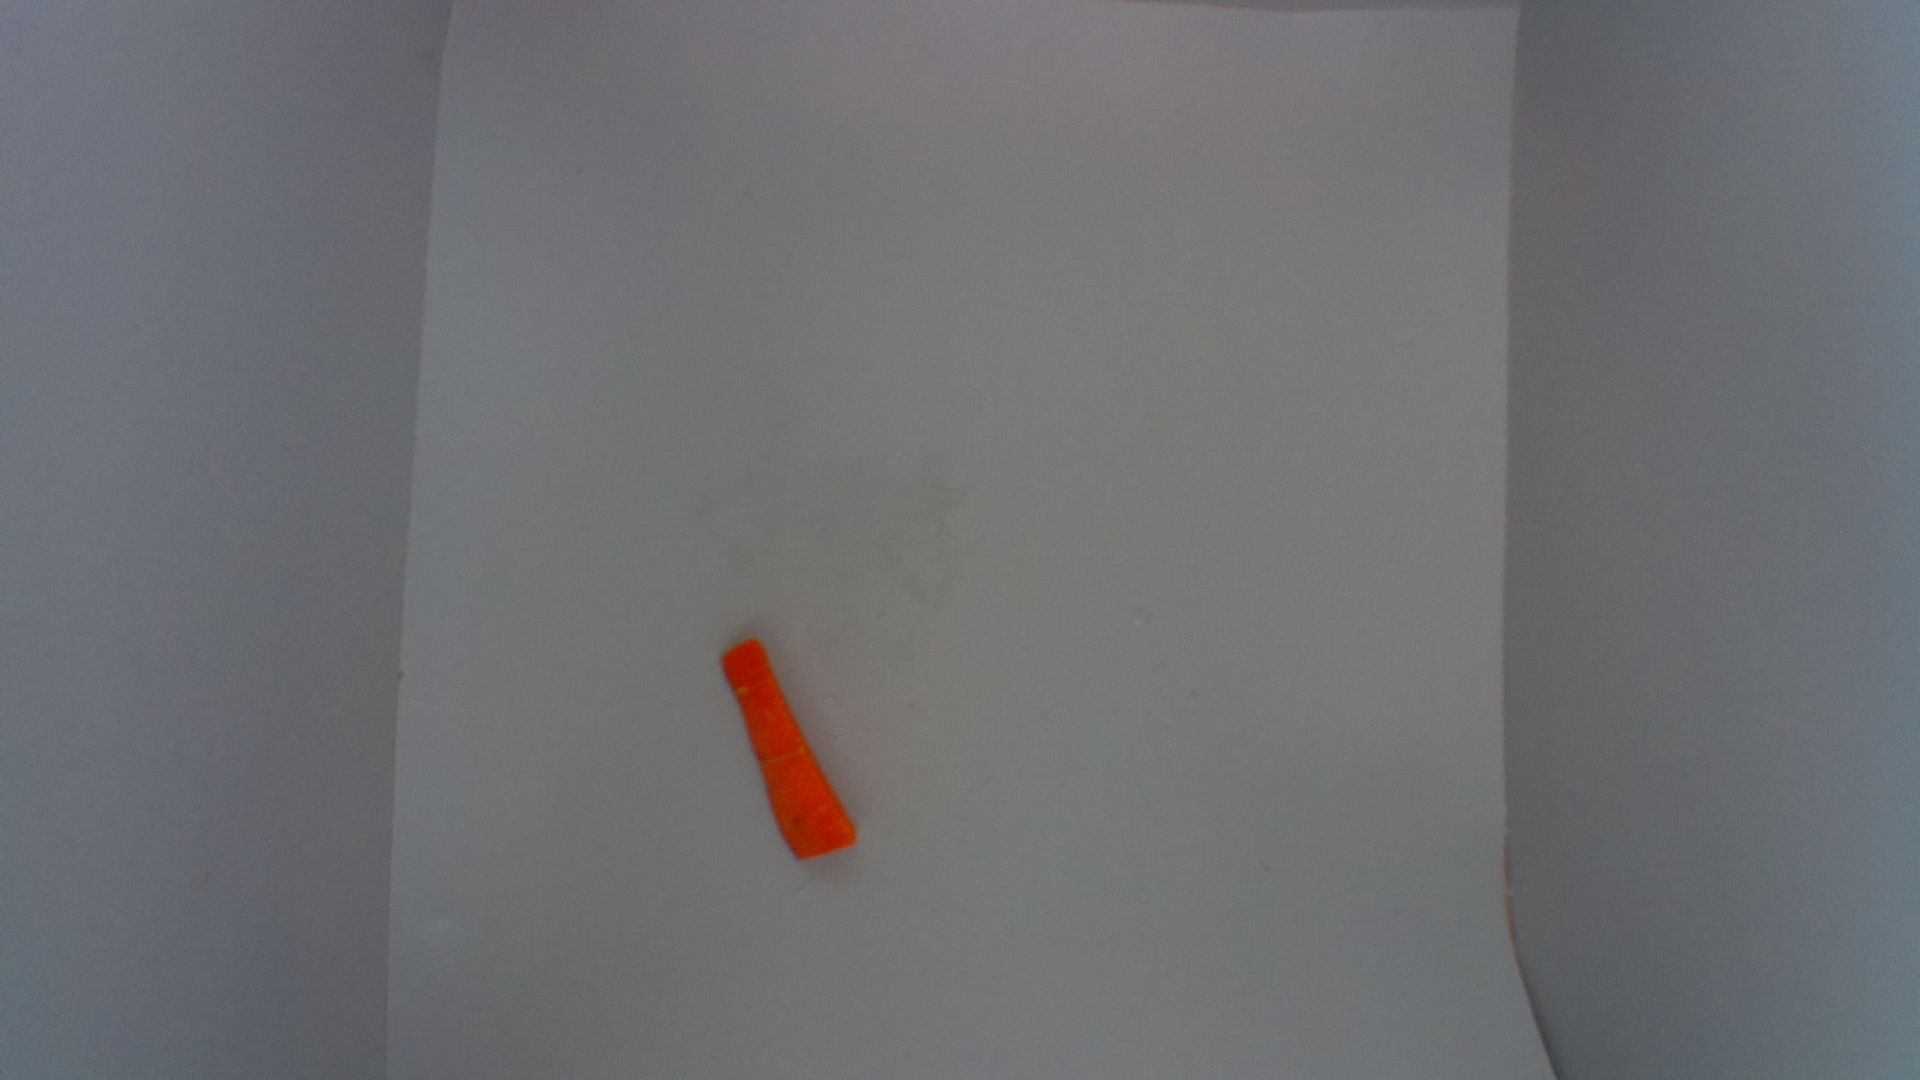carrot: (719, 640, 862, 861)
